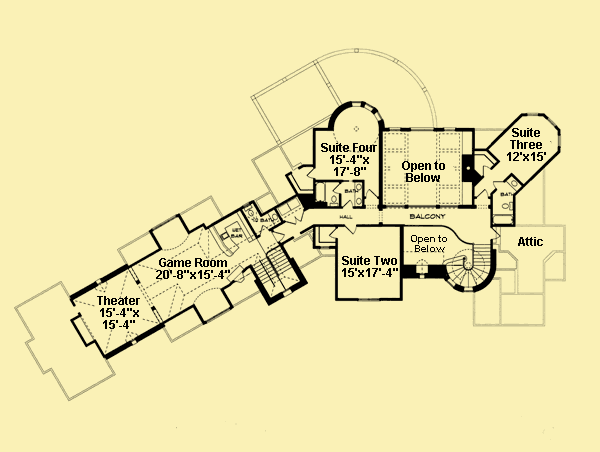door: (282, 213, 306, 225), (343, 221, 357, 235)
large_sink: (499, 200, 514, 211)
stairs: (252, 246, 303, 297), (442, 241, 493, 290)
windows: (387, 123, 456, 136), (347, 98, 381, 123)
